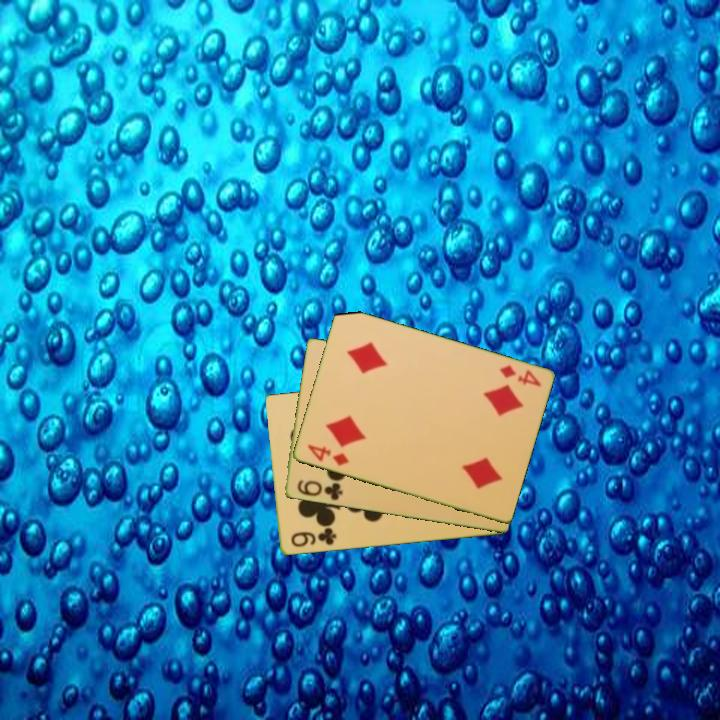4d: (304, 441, 352, 469), (496, 362, 544, 390)
6c: (293, 477, 345, 504)
9c: (287, 525, 339, 550)
